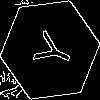Y: (25, 25, 76, 74)
